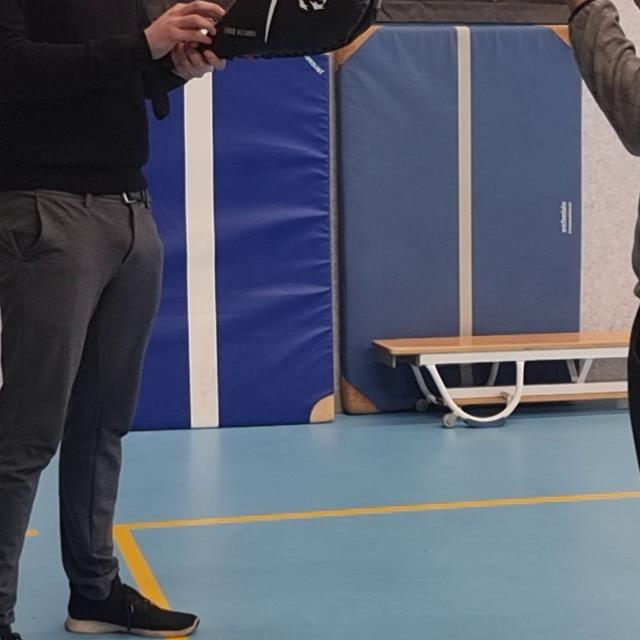paddle: (190, 0, 385, 60)
